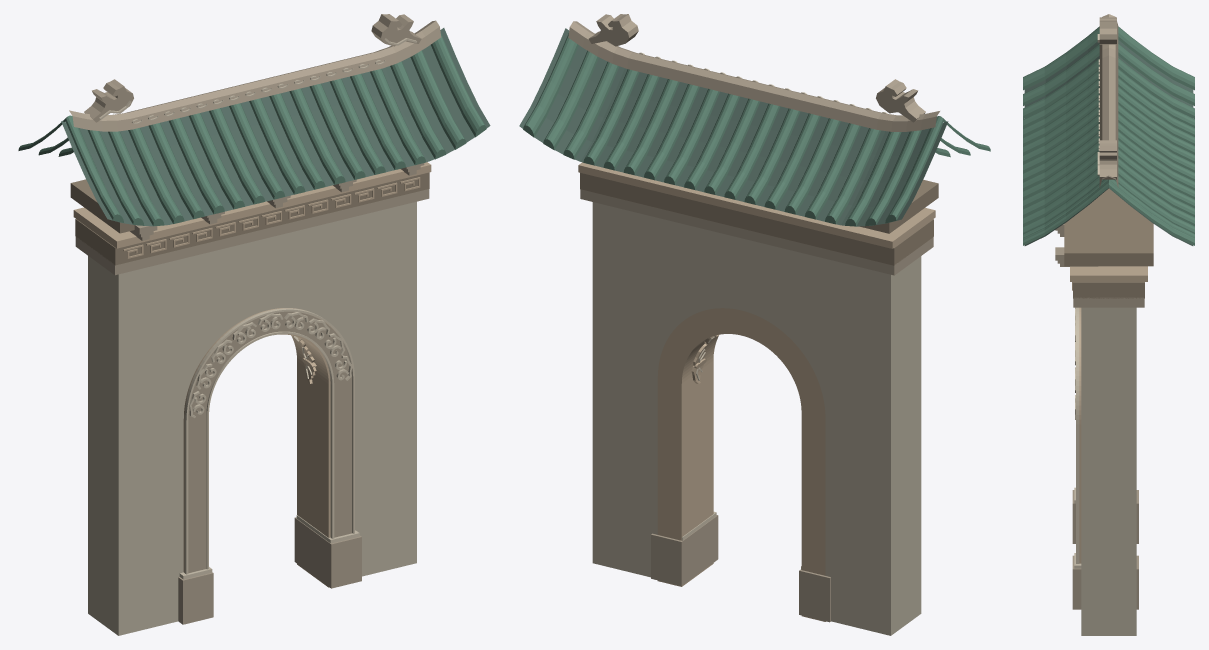
The model's file is xuhui-wu-residence-five-bat-garden-gate-raw.glb.
3 views of the same model, side by side, from view 1: azimuth 30°, elevation 25°; view 2: azimuth 150°, elevation 25°; view 3: azimuth 270°, elevation 25° (orthographic). The views are drawn at different scales.
Visible parts, largest first — view 1: 吴氏花园住宅庭院五蝠石券仪门; view 2: 吴氏花园住宅庭院五蝠石券仪门; view 3: 吴氏花园住宅庭院五蝠石券仪门.
Part boxes in pixels (left/top/right/bottom): 吴氏花园住宅庭院五蝠石券仪门: left=18, top=14, right=490, bottom=635; 吴氏花园住宅庭院五蝠石券仪门: left=519, top=14, right=990, bottom=635; 吴氏花园住宅庭院五蝠石券仪门: left=1023, top=14, right=1194, bottom=635.
Bounding box in the file's own units: 3.9 × 5.26 × 1.67.
